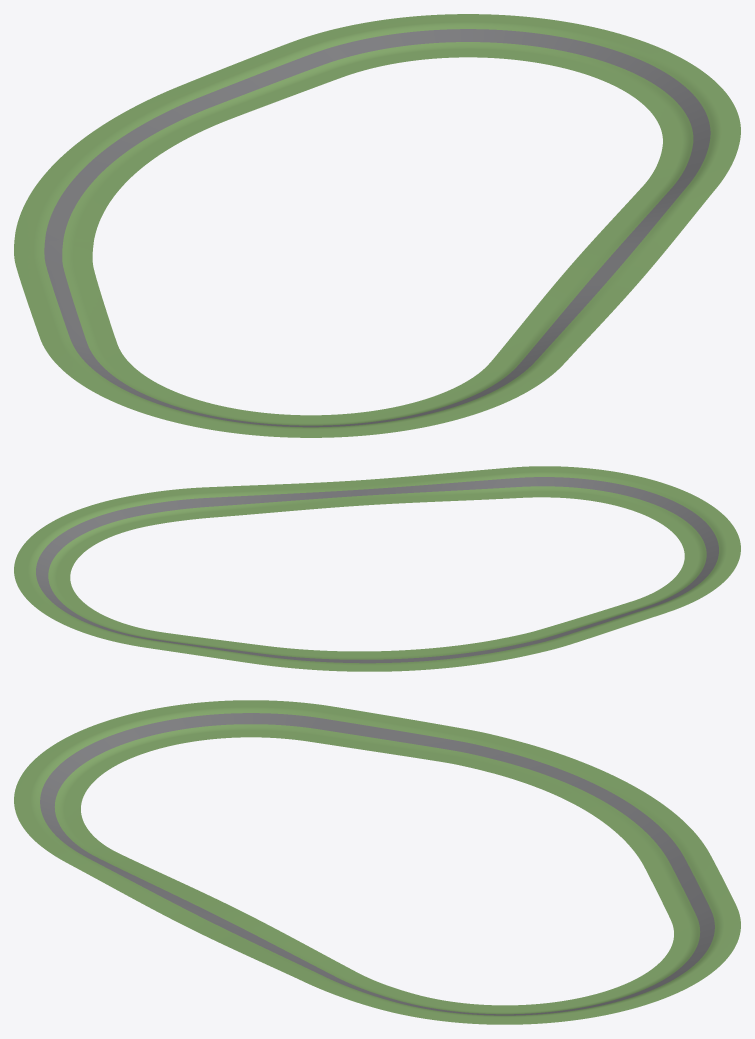
The model's file is road_mesh.glb.
3 renders of one model, top to bottom at view 1: azimuth 30°, elevation 25°; view 2: azimuth 150°, elevation 25°; view 3: azimuth 270°, elevation 25°, orthographic. The views are drawn at different scales.
Visible parts, largest first — view 1: road_10, road_11, road_12, road_09, road_13, road_00, road_06, road_07, road_01, road_08, road_02, road_05 (+2 smaller); view 2: road_05, road_08, road_04, road_07, road_09, road_06, road_03, road_10, road_00, road_13, road_02, road_01 (+2 smaller); view 3: road_02, road_03, road_01, road_00, road_13, road_04, road_12, road_11, road_06, road_07, road_05, road_10 (+2 smaller).
Boxes of the visible parts, bbox=[...] form: road_10: bbox=[453, 14, 641, 76]; road_11: bbox=[274, 14, 457, 83]; road_12: bbox=[143, 49, 324, 131]; road_09: bbox=[592, 41, 738, 130]; road_13: bbox=[46, 102, 201, 189]; road_00: bbox=[14, 173, 119, 258]; road_06: bbox=[512, 263, 646, 340]; road_07: bbox=[573, 195, 707, 272]; road_01: bbox=[14, 252, 113, 333]; road_08: bbox=[635, 116, 740, 198]; road_02: bbox=[36, 326, 172, 403]; road_05: bbox=[438, 336, 585, 408]; road_05: bbox=[469, 466, 606, 500]; road_08: bbox=[91, 486, 228, 531]; road_04: bbox=[589, 470, 716, 528]; road_07: bbox=[220, 481, 353, 516]; road_09: bbox=[16, 505, 124, 568]; road_06: bbox=[345, 471, 478, 505]; road_03: bbox=[668, 509, 740, 571]; road_10: bbox=[14, 557, 92, 615]; road_00: bbox=[413, 634, 549, 669]; road_13: bbox=[286, 649, 421, 671]; road_02: bbox=[618, 567, 734, 616]; road_01: bbox=[521, 606, 652, 650]; road_02: bbox=[185, 700, 352, 744]; road_03: bbox=[49, 704, 202, 771]; road_01: bbox=[328, 710, 493, 765]; road_00: bbox=[461, 735, 618, 800]; road_13: bbox=[567, 778, 697, 851]; road_04: bbox=[14, 748, 104, 824]; road_12: bbox=[634, 836, 732, 911]; road_11: bbox=[657, 898, 740, 968]; road_06: bbox=[100, 869, 247, 931]; road_07: bbox=[196, 914, 343, 975]; road_05: bbox=[19, 818, 151, 880]; road_10: bbox=[567, 965, 716, 1017].
Size of the model in its own units: 891 by 18.97 by 835.
